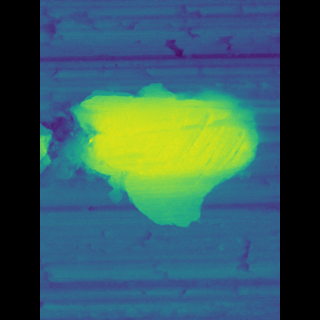Loch: (93, 82, 236, 228)
